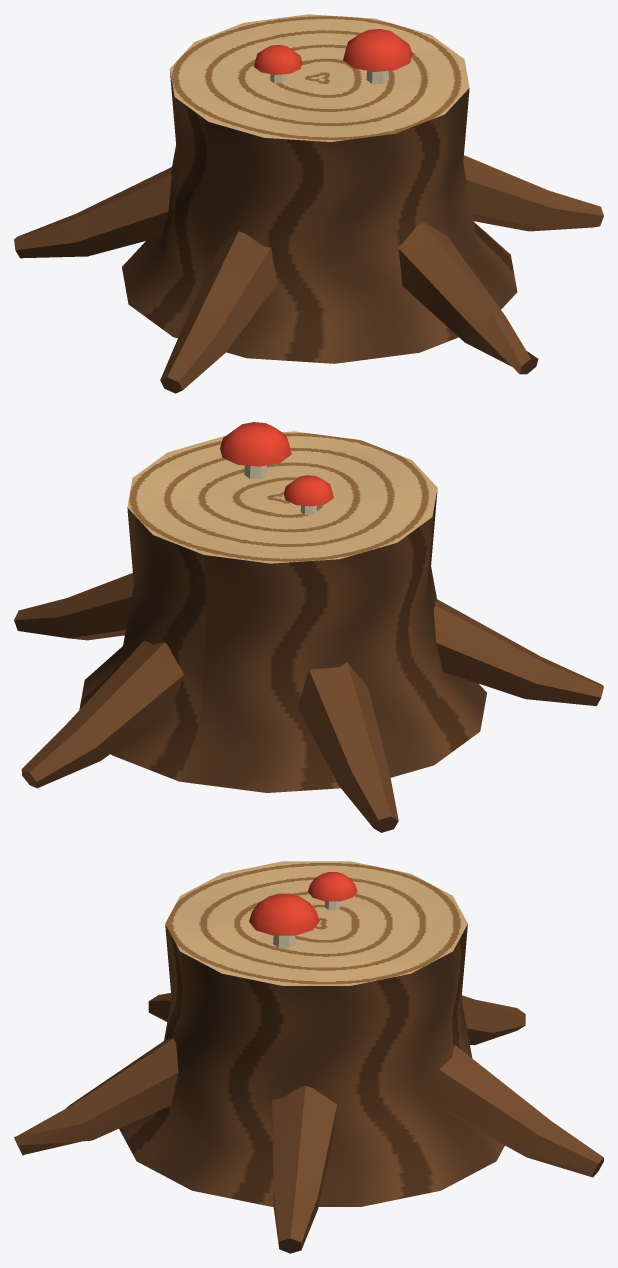
File: prop_stump.glb
The picture shows the model from 3 angles, top to bottom: view 1: azimuth 30°, elevation 25°; view 2: azimuth 150°, elevation 25°; view 3: azimuth 270°, elevation 25°; orthographic projection. The views are drawn at different scales.
Visible parts, largest first — view 1: prop_stump; view 2: prop_stump; view 3: prop_stump.
Part boxes in pixels (x1,y1,x2,y2): prop_stump: (14,14,603,393); prop_stump: (14,422,603,832); prop_stump: (14,861,603,1253).
Bounding box in the file's own units: 1.8 × 0.85 × 1.83.
1 material, 1 textured.
